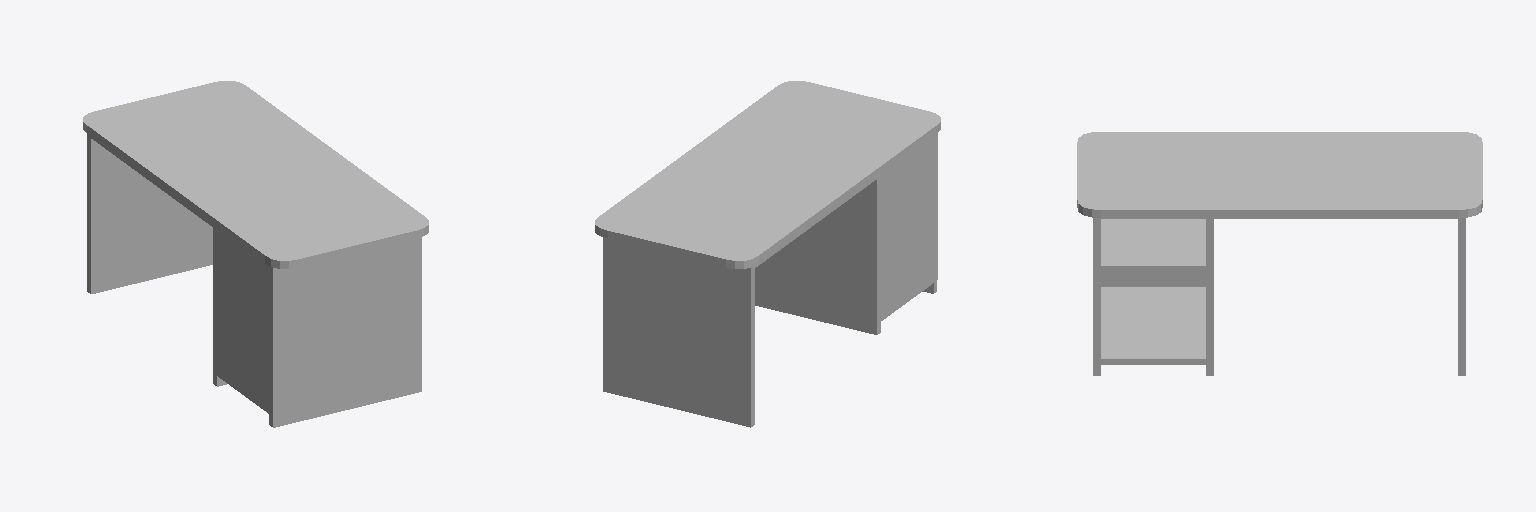
File: Table02.obj
3 views of the same model, side by side, from view 1: azimuth 30°, elevation 25°; view 2: azimuth 150°, elevation 25°; view 3: azimuth 270°, elevation 25° (orthographic).
Visible parts, largest first — view 1: Table02_LOD0_Plane.014; view 2: Table02_LOD0_Plane.014; view 3: Table02_LOD0_Plane.014.
Part boxes in pixels (left/top/right/bottom): Table02_LOD0_Plane.014: left=83, top=81, right=428, bottom=427; Table02_LOD0_Plane.014: left=595, top=81, right=940, bottom=427; Table02_LOD0_Plane.014: left=1077, top=132, right=1482, bottom=375.
Size of the model in its own units: 0.82 by 0.8347 by 1.8.